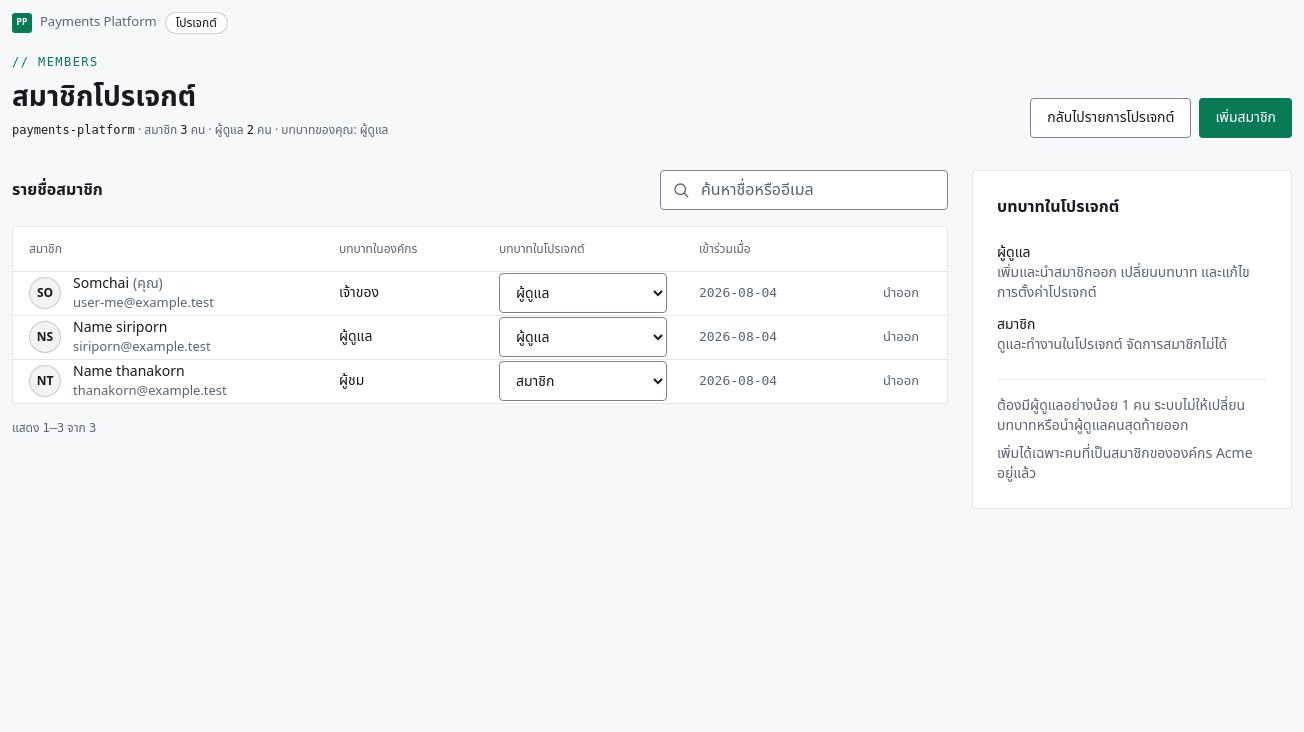
self changes › keeps focus on the page heading when demoting yourself removes the select
Expected: the element with test id "project-members-table" is shown, [12, 226, 948, 404]
Select "สมาชิก" in the dropdown named "บทบาทในโปรเจกต์ของ Somchai" at (583, 293), box [499, 273, 667, 313]
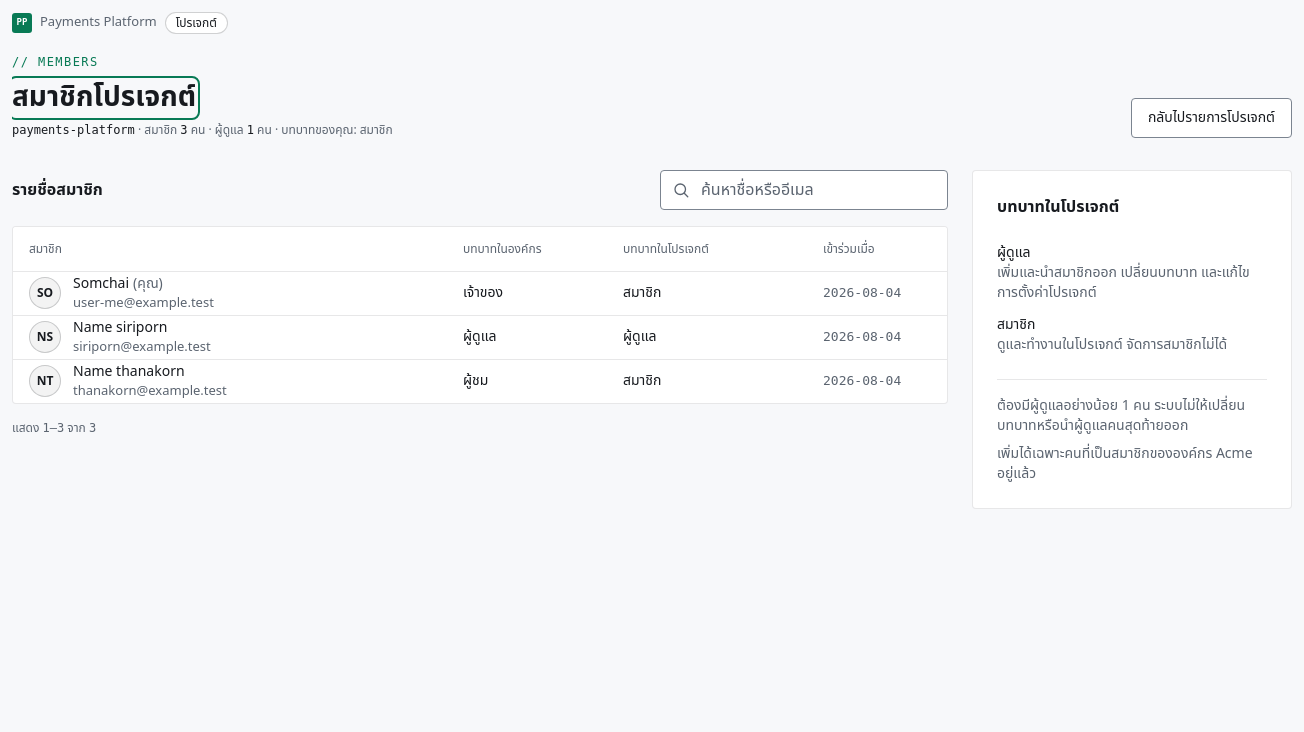
Expected: the dropdown with test id "project-member-role-select" is gone
Expected: the button with test id "project-members-add" is gone
